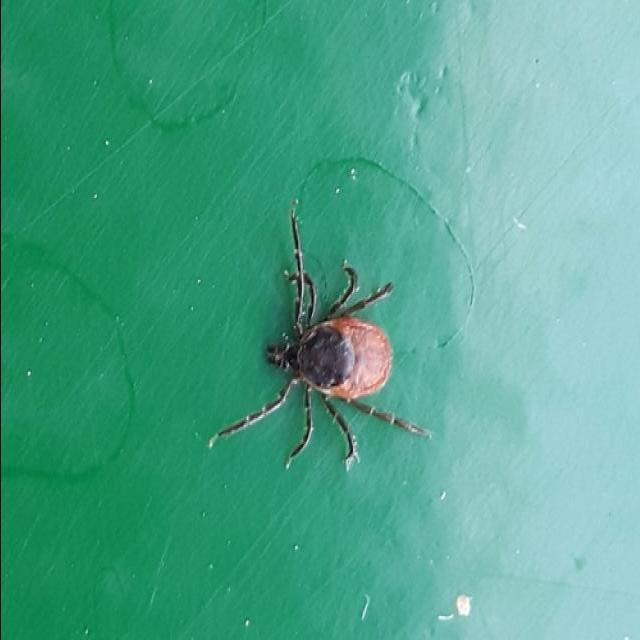Ixodes Ricinus-F: (223, 203, 421, 463)
